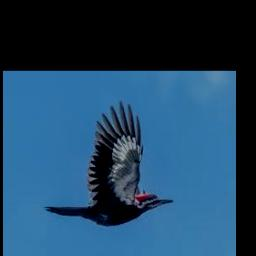Woodpecker: (44, 101, 174, 226)
